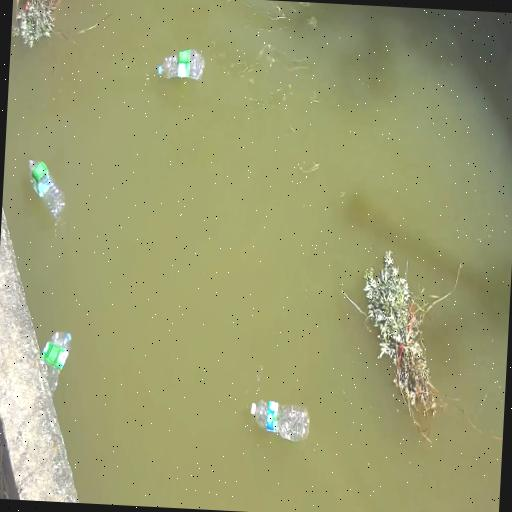plastic: (250, 401, 308, 441), (28, 160, 64, 219), (40, 333, 70, 394), (157, 50, 203, 80)
twig: (364, 251, 460, 440), (13, 0, 57, 48)
